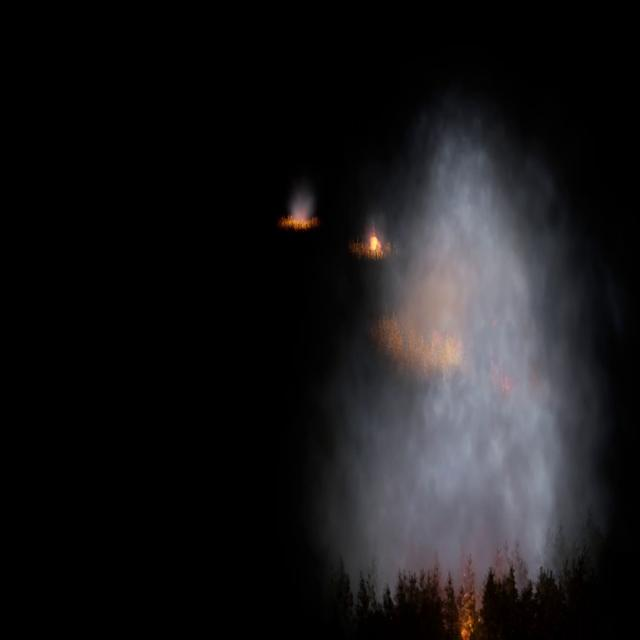fire: (368, 231, 383, 250)
smoke: (315, 103, 619, 590), (290, 182, 315, 216)
